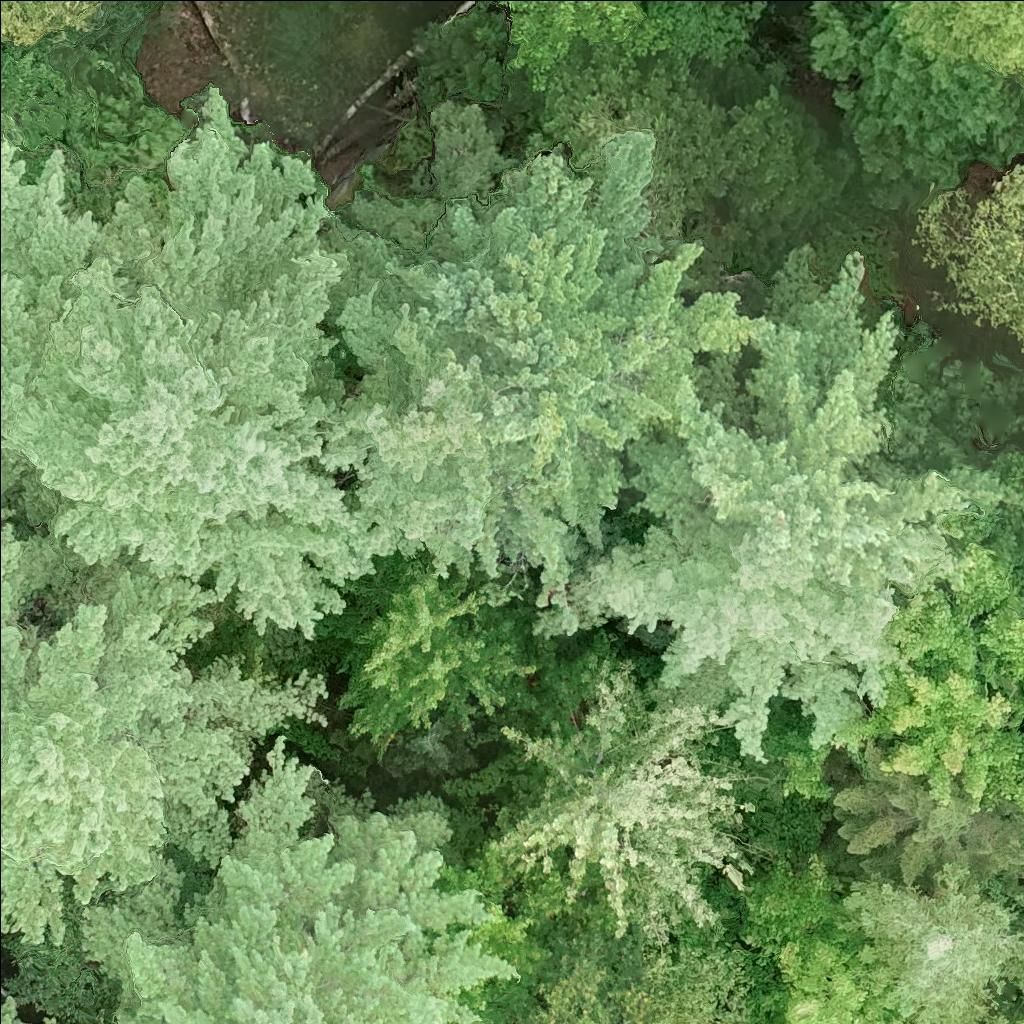crown: (541, 253, 971, 753), (321, 103, 779, 570), (0, 96, 381, 639), (0, 510, 327, 944), (89, 740, 513, 1023), (492, 660, 755, 950), (835, 543, 1023, 815), (811, 0, 1023, 211), (0, 28, 190, 234), (343, 575, 540, 757), (513, 884, 751, 1023), (831, 739, 1023, 905), (837, 866, 1023, 1023), (500, 0, 766, 91), (917, 169, 1023, 329), (776, 941, 909, 1023), (896, 0, 1023, 77), (0, 0, 103, 45), (0, 990, 21, 1023)
